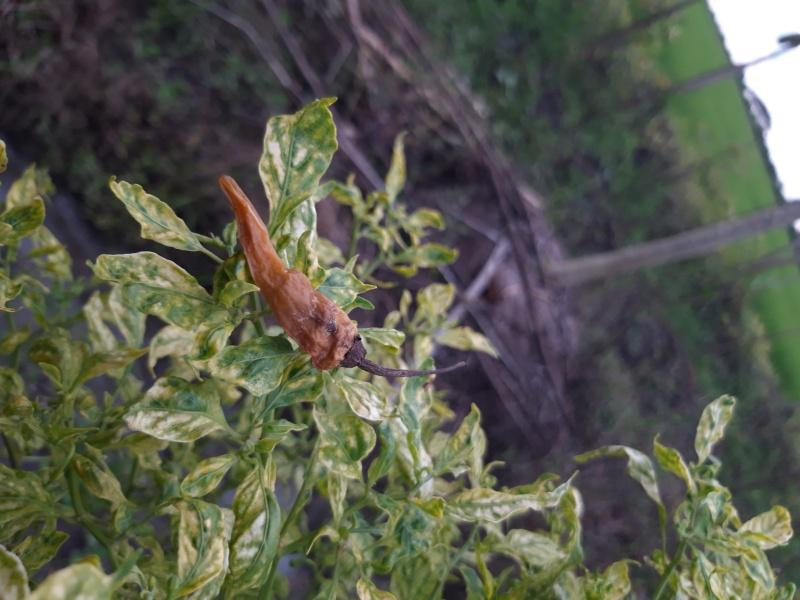antraknosa: (217, 175, 370, 371)
